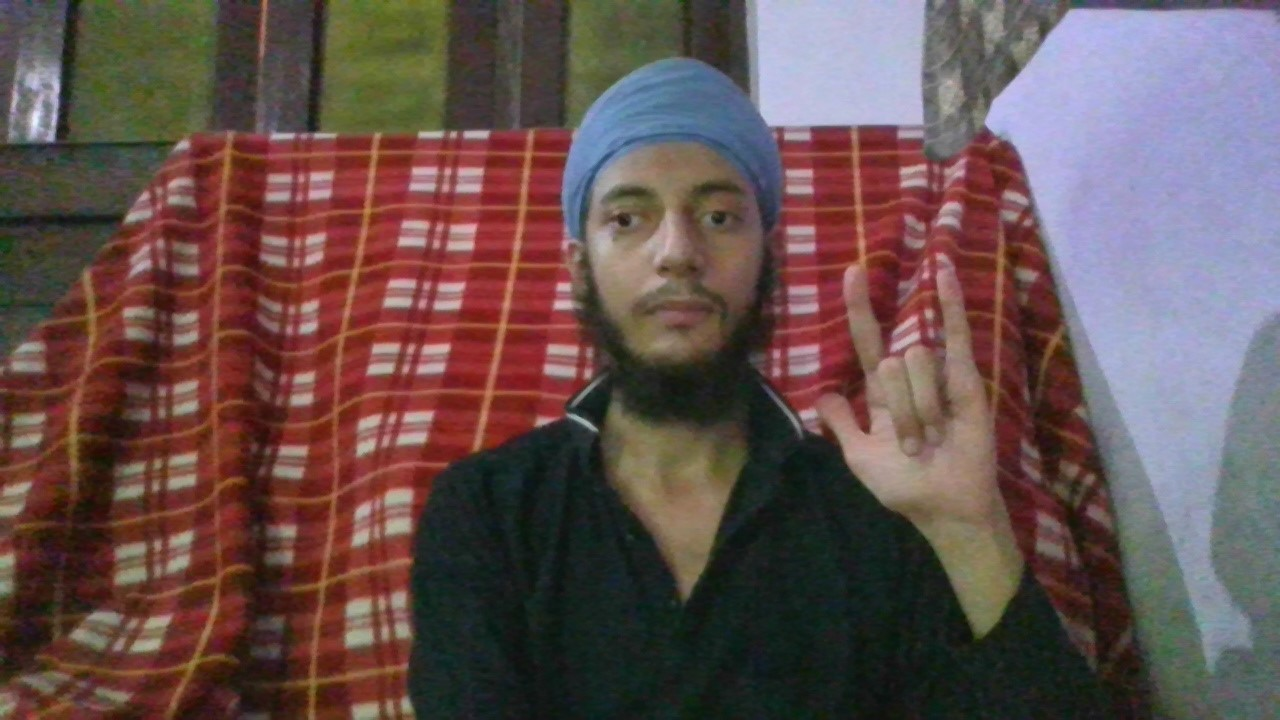I Love You: (812, 256, 1002, 521)
